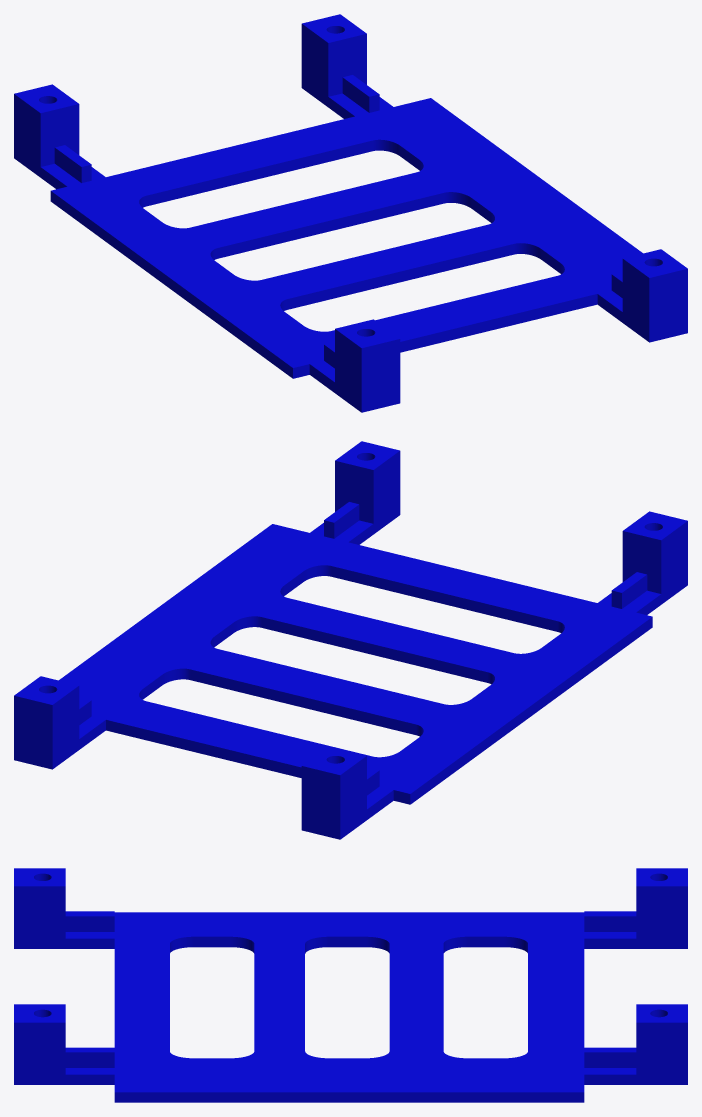
The model's file is Medio.dae.
3 renders of one model, top to bottom at view 1: azimuth 30°, elevation 25°; view 2: azimuth 150°, elevation 25°; view 3: azimuth 270°, elevation 25°, orthographic. The views are drawn at different scales.
Parts seen in each view (by area): view 1: tmp_export_Medio; view 2: tmp_export_Medio; view 3: tmp_export_Medio.
Boxes of the visible parts, left/top/right/bottom form: tmp_export_Medio: left=14, top=14, right=687, bottom=412; tmp_export_Medio: left=14, top=441, right=687, bottom=839; tmp_export_Medio: left=14, top=868, right=687, bottom=1102.
Size of the model in its own units: 0.074 by 0.1172 by 0.012.
